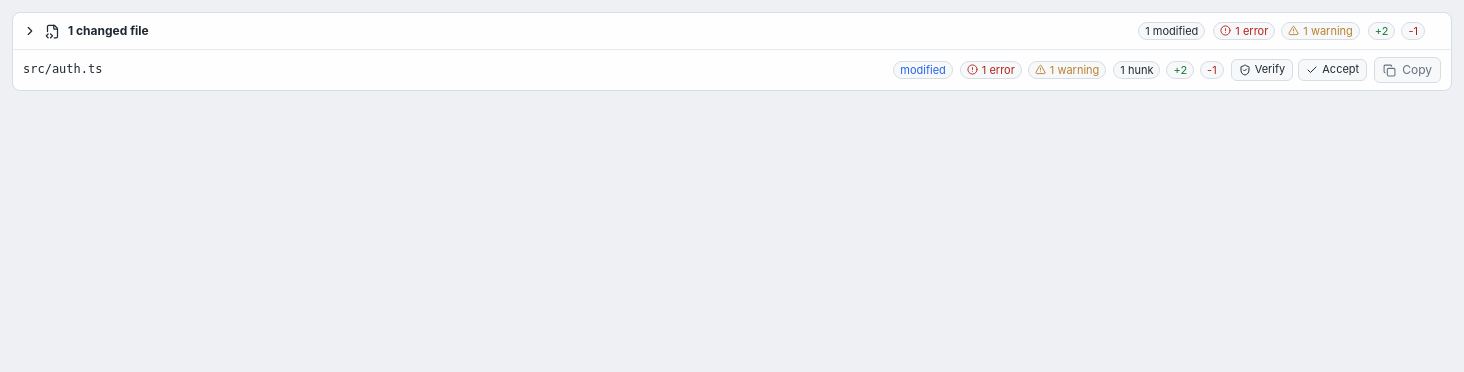
Test case: CurrentTurnChangeCard › summarizes diagnostics for changed files and expands diagnostic details
Expected: the 1st text "1 error" is shown, x1=1213 y1=22 x2=1275 y2=40
Expected: the 1st text "1 warning" is shown, x1=1281 y1=22 x2=1360 y2=40
Click the button "1 changed file 1 modified 1 error 1 warning +2 -1" at x=102, y=31, box x1=13 y1=13 x2=1451 y2=49
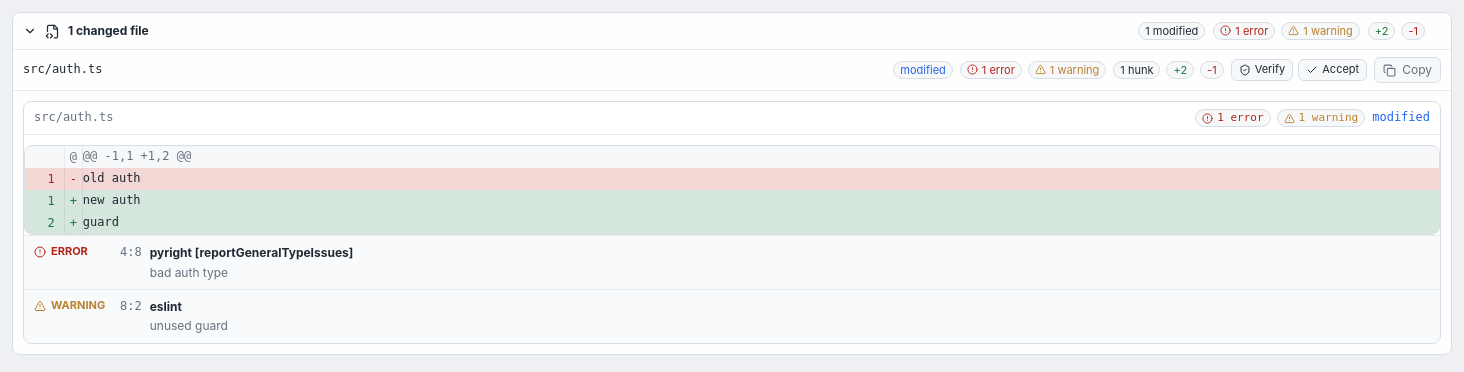
Expected: the element named "Diagnostics for changed file" is shown, x1=24 y1=235 x2=1440 y2=343
Expected: the text "bad auth type" is shown, x1=150 y1=265 x2=228 y2=280
Expected: the text "unused guard" is shown, x1=150 y1=318 x2=228 y2=334
